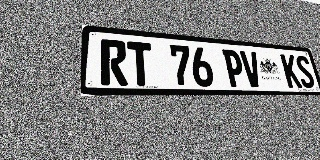6: (190, 46, 215, 87)
7: (168, 45, 194, 86)
K: (280, 54, 302, 88)
P: (222, 49, 246, 87)
R: (101, 39, 128, 86)
S: (294, 55, 316, 88)
T: (127, 41, 154, 86)
V: (240, 51, 263, 87)
